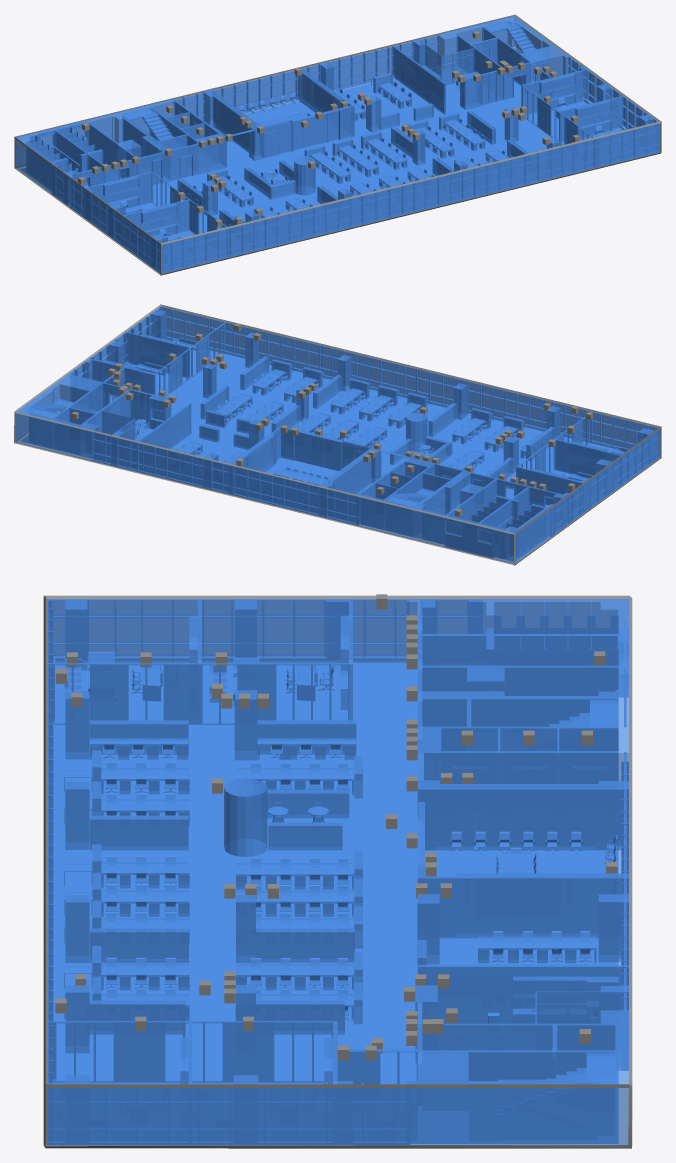
The picture shows the model from 3 angles, top to bottom: view 1: azimuth 30°, elevation 25°; view 2: azimuth 150°, elevation 25°; view 3: azimuth 270°, elevation 25°; orthographic projection. The views are drawn at different scales.
Parts seen in each view (by area): view 1: qiangti002, Rectangledimian001, guangdai002; view 2: qiangti002, Rectangledimian001, guangdai002; view 3: qiangti002, Rectangledimian001, guangdai002.
Part boxes in pixels (x1,y1,x2,y2): qiangti002: [15, 16, 660, 273]; Rectangledimian001: [20, 49, 625, 237]; guangdai002: [14, 14, 661, 275]; qiangti002: [15, 306, 660, 563]; Rectangledimian001: [21, 339, 615, 561]; guangdai002: [14, 304, 661, 565]; qiangti002: [47, 599, 628, 1145]; Rectangledimian001: [53, 661, 618, 1143]; guangdai002: [43, 595, 632, 1148].
Bounding box in the file's own units: 51.92 × 26.38 × 3.4.
